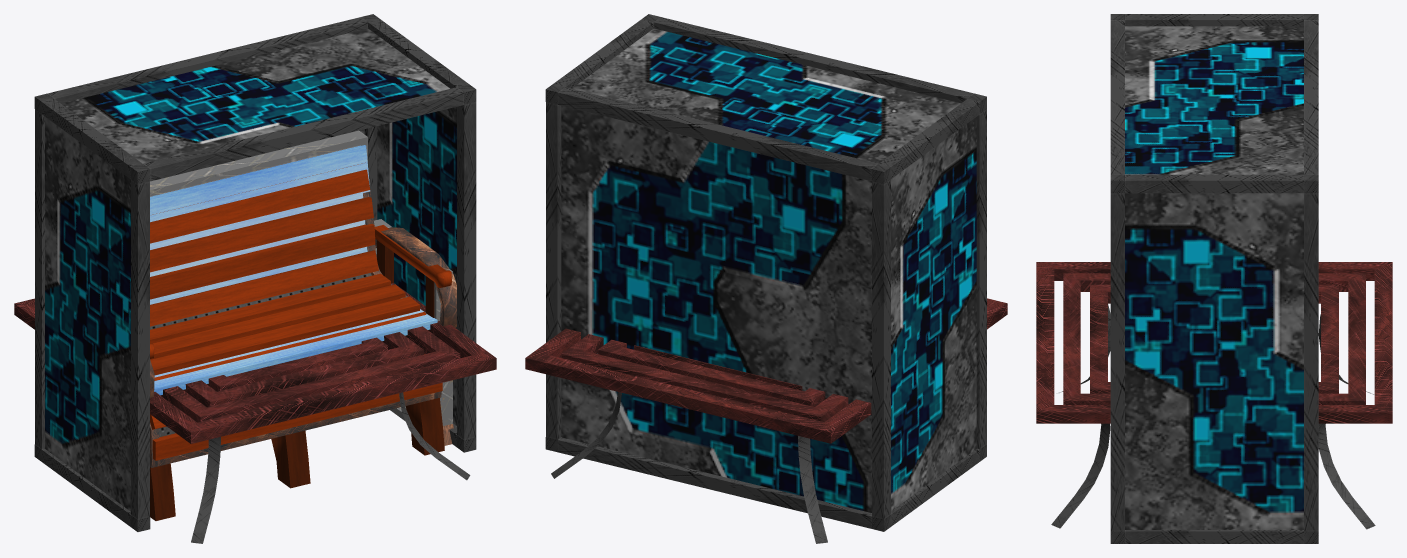
Rendered from benches_mesh.fbx.
3 renders of one model, left to right at view 1: azimuth 30°, elevation 25°; view 2: azimuth 150°, elevation 25°; view 3: azimuth 270°, elevation 25°, orthographic.
Visible parts, largest first — view 1: coverBench, woodBench, squareBench, glassBench, metalBench; view 2: coverBench, squareBench; view 3: coverBench, squareBench.
Boxes of the visible parts, x1,y1,x2,y2 form: coverBench: [34, 14, 476, 531]; woodBench: [150, 162, 451, 520]; squareBench: [14, 283, 496, 543]; glassBench: [150, 130, 452, 425]; metalBench: [150, 191, 456, 467]; coverBench: [545, 14, 986, 531]; squareBench: [525, 298, 1007, 543]; coverBench: [1110, 14, 1318, 543]; squareBench: [1036, 262, 1392, 529].
Size of the model in its own units: 239 by 243 by 216.
